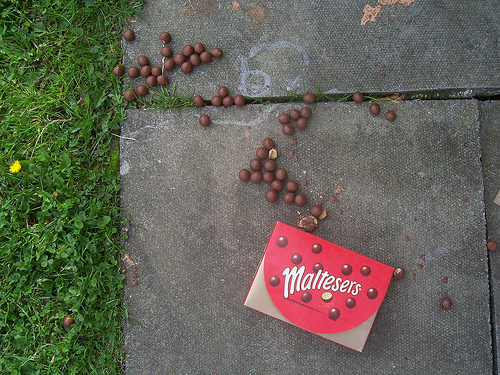litter: (242, 220, 396, 354), (237, 135, 329, 221), (112, 28, 222, 99), (192, 88, 244, 125), (347, 90, 399, 125), (275, 92, 315, 137), (438, 295, 455, 311), (485, 239, 496, 253)
